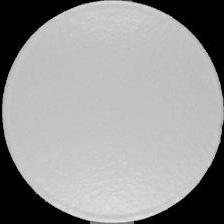0555-9131: (0, 0, 224, 224)
